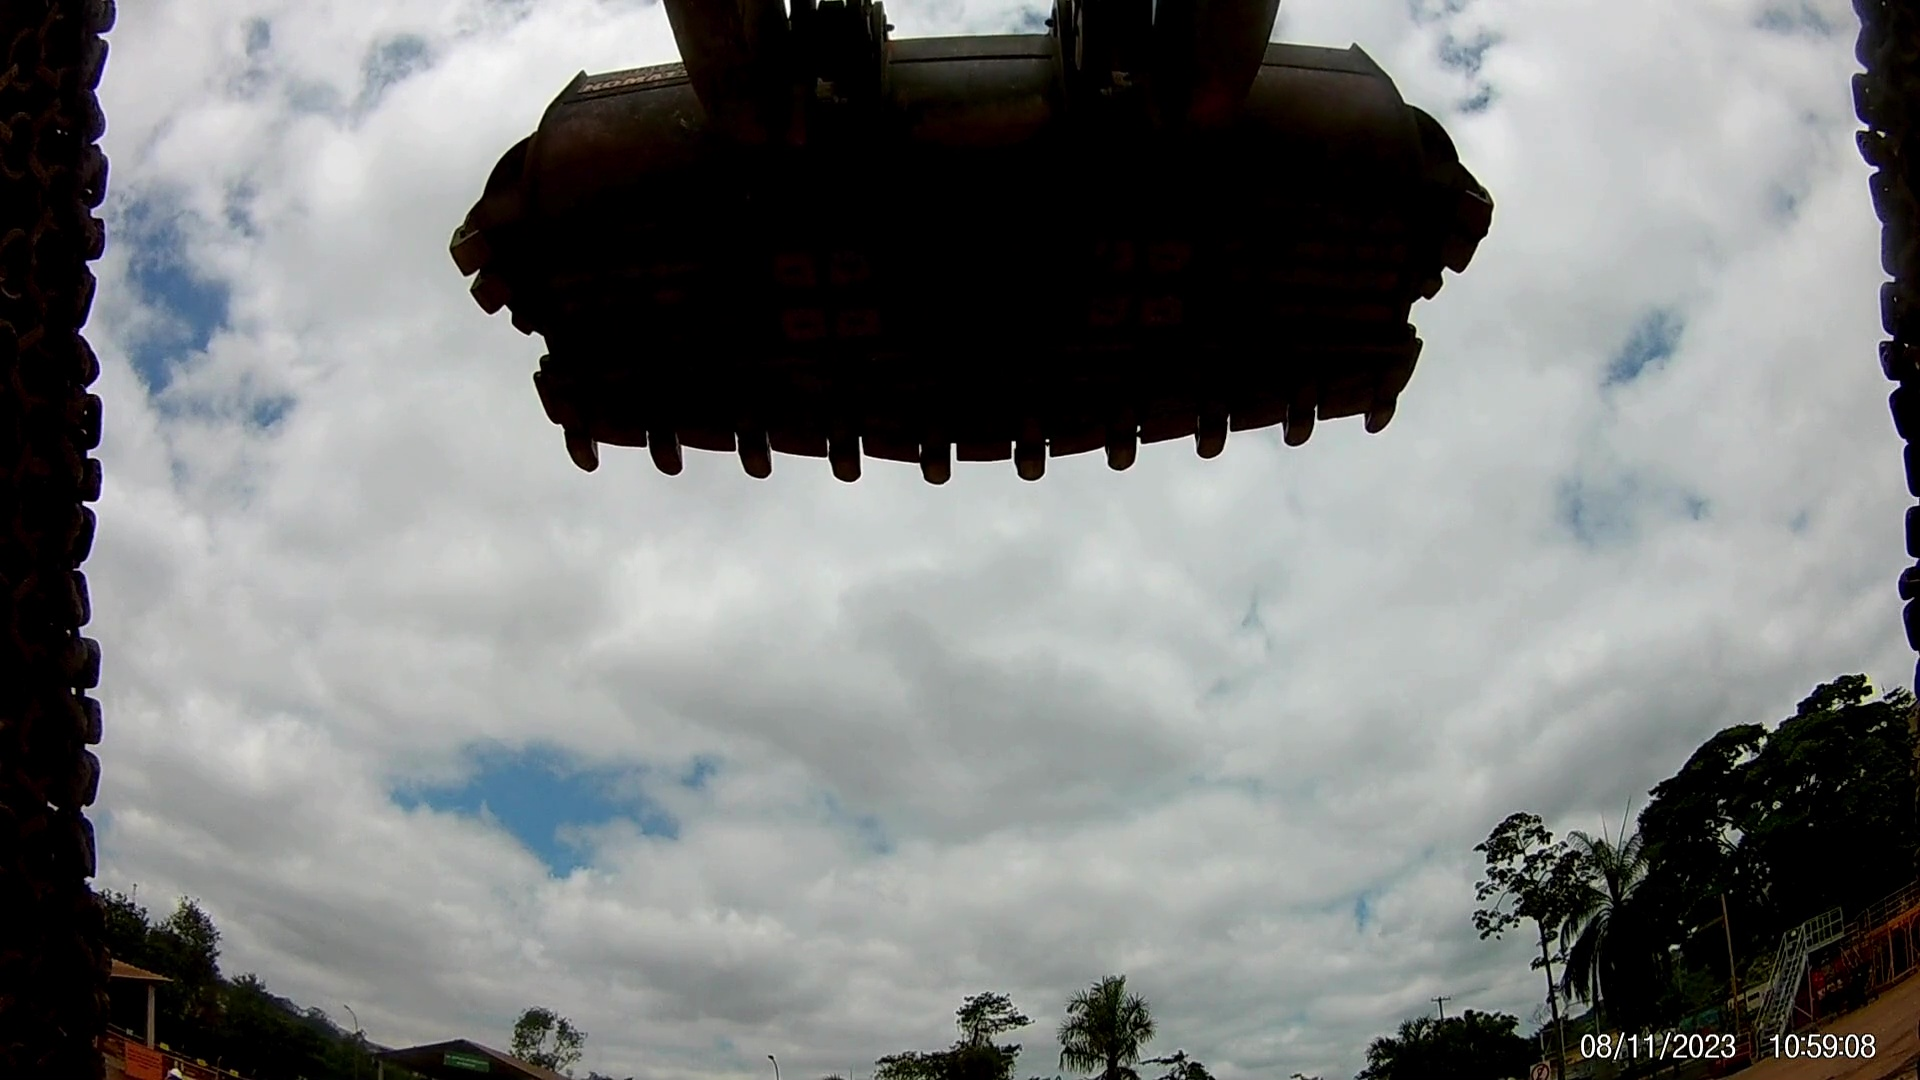FPS: (545, 419, 608, 476), (1193, 405, 1244, 469), (827, 422, 873, 487), (642, 426, 698, 479), (1108, 405, 1147, 476), (737, 422, 781, 484), (1018, 415, 1051, 487), (1273, 404, 1317, 454), (1361, 393, 1411, 438), (927, 429, 956, 500)
